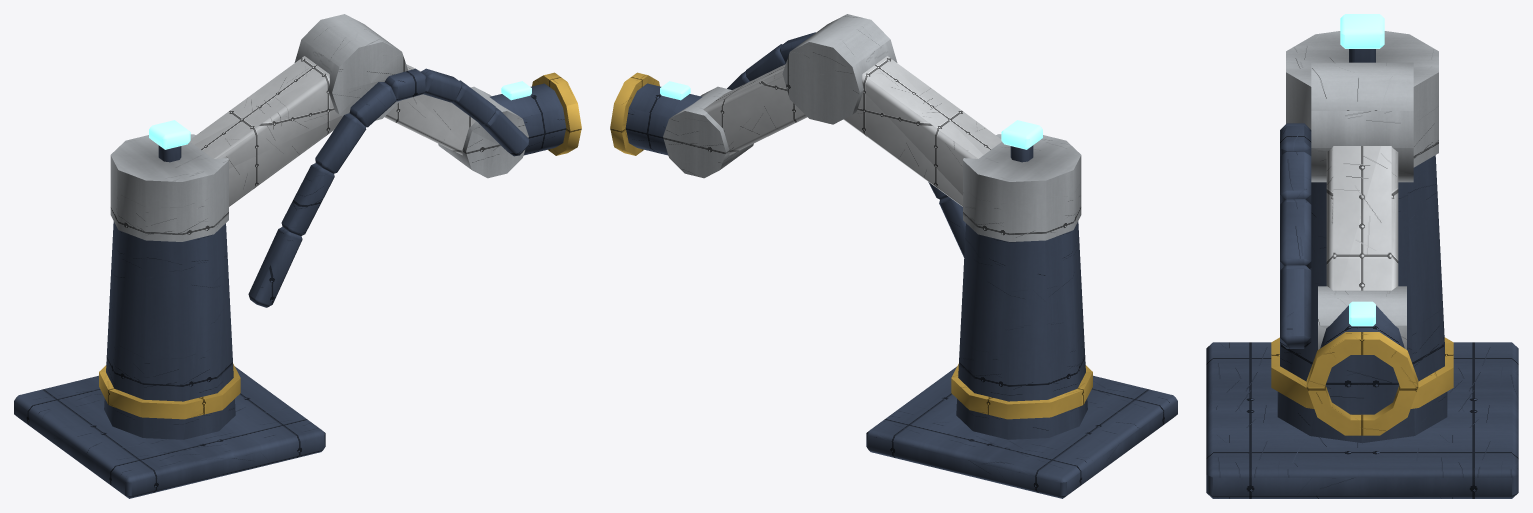
The model's file is arm.glb.
3 views of the same model, side by side, from view 1: azimuth 30°, elevation 25°; view 2: azimuth 150°, elevation 25°; view 3: azimuth 270°, elevation 25° (orthographic). The views are drawn at different scales.
Visible parts, largest first — view 1: DL014_ServiceArm_graphite_navy, DL014_ServiceArm_titanium, DL014_ServiceArm_hull_offwhite, DL014_ServiceArm_amber_accent, DL014_ServiceArm_emissive_cyan; view 2: DL014_ServiceArm_graphite_navy, DL014_ServiceArm_titanium, DL014_ServiceArm_hull_offwhite, DL014_ServiceArm_amber_accent, DL014_ServiceArm_emissive_cyan; view 3: DL014_ServiceArm_graphite_navy, DL014_ServiceArm_titanium, DL014_ServiceArm_hull_offwhite, DL014_ServiceArm_amber_accent, DL014_ServiceArm_emissive_cyan.
Boxes of the visible parts, <box> form: DL014_ServiceArm_graphite_navy: <box>14,68,566,498</box>; DL014_ServiceArm_titanium: <box>110,14,528,241</box>; DL014_ServiceArm_hull_offwhite: <box>190,56,475,206</box>; DL014_ServiceArm_amber_accent: <box>99,72,581,419</box>; DL014_ServiceArm_emissive_cyan: <box>149,81,531,149</box>; DL014_ServiceArm_graphite_navy: <box>625,32,1177,498</box>; DL014_ServiceArm_titanium: <box>663,14,1081,241</box>; DL014_ServiceArm_hull_offwhite: <box>703,56,1001,206</box>; DL014_ServiceArm_amber_accent: <box>610,72,1092,419</box>; DL014_ServiceArm_emissive_cyan: <box>660,81,1042,149</box>; DL014_ServiceArm_graphite_navy: <box>1206,49,1518,498</box>; DL014_ServiceArm_titanium: <box>1286,31,1438,349</box>; DL014_ServiceArm_hull_offwhite: <box>1326,146,1398,290</box>; DL014_ServiceArm_amber_accent: <box>1271,332,1453,435</box>; DL014_ServiceArm_emissive_cyan: <box>1340,14,1384,326</box>.
Size of the model in its own units: 3.43 by 2.4 by 1.4.
5 materials, 4 textured.
